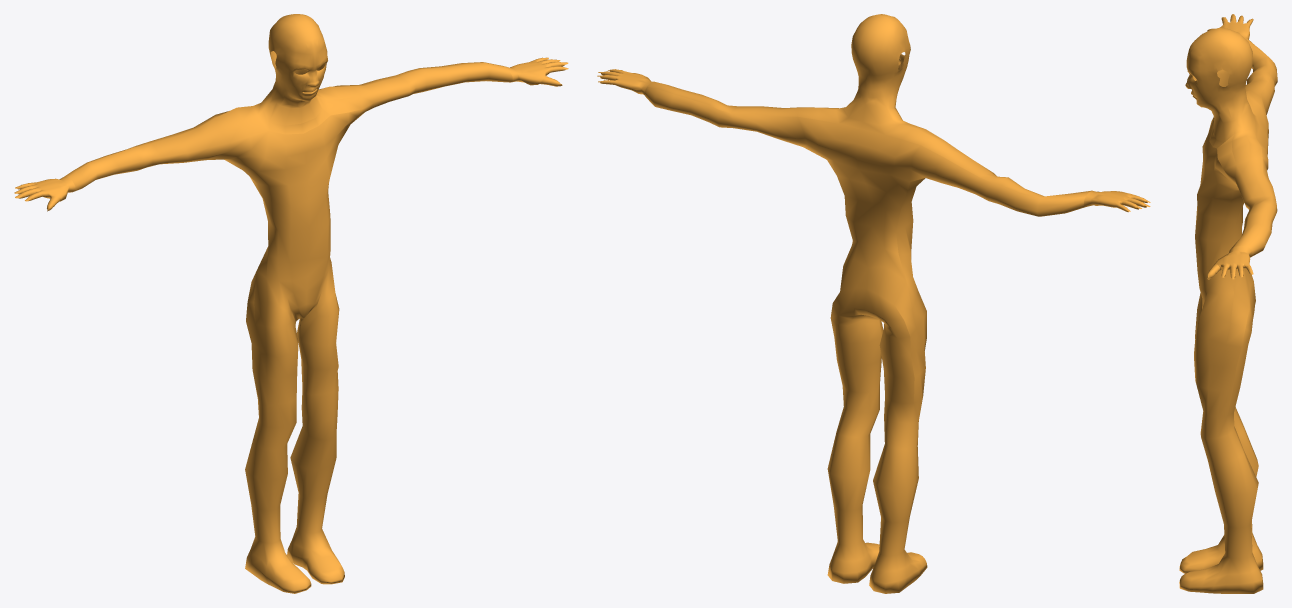
File: Indice_Bajo.glb
3 renders of one model, left to right at view 1: azimuth 30°, elevation 25°; view 2: azimuth 150°, elevation 25°; view 3: azimuth 270°, elevation 25°, orthographic.
Visible parts, largest first — view 1: Object_2.002; view 2: Object_2.002; view 3: Object_2.002.
Part boxes in pixels (left/top/right/bottom): Object_2.002: left=14, top=14, right=568, bottom=593; Object_2.002: left=597, top=14, right=1150, bottom=593; Object_2.002: left=1179, top=14, right=1277, bottom=593.
Bounding box in the file's own units: 3.82 × 3.68 × 0.5978.
